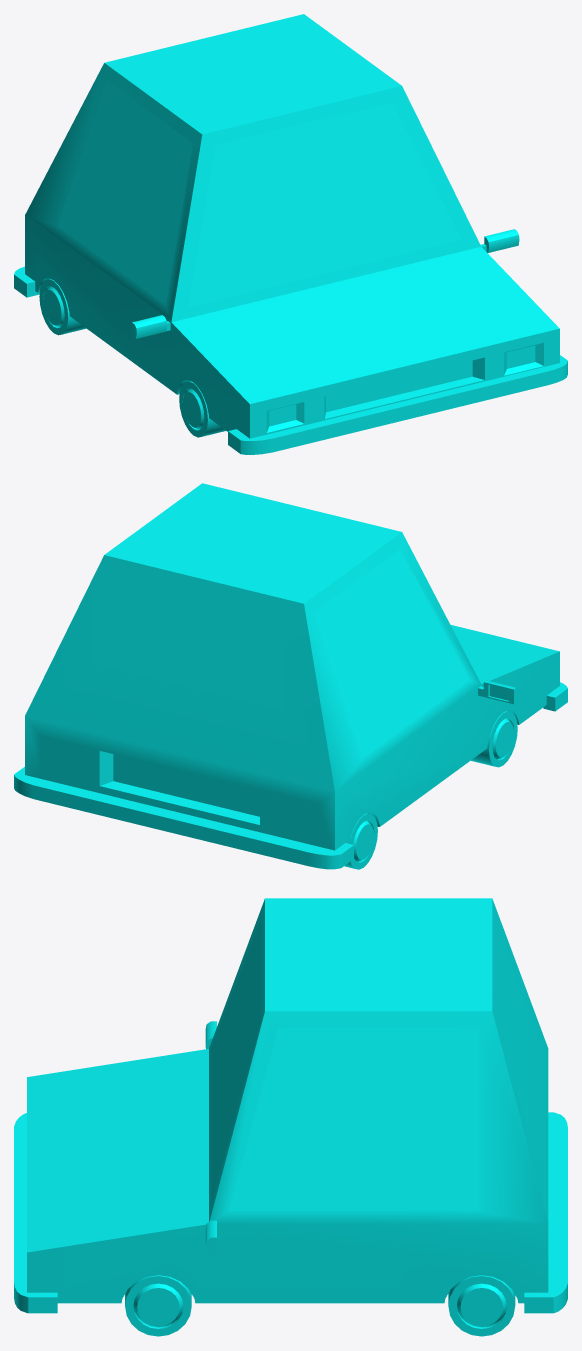
The model's file is MiniBoxCar.obj.
3 views of the same model, one above another, from view 1: azimuth 30°, elevation 25°; view 2: azimuth 150°, elevation 25°; view 3: azimuth 270°, elevation 25° (orthographic). The views are drawn at different scales.
Visible parts, largest first — view 1: MiniBoxCar; view 2: MiniBoxCar; view 3: MiniBoxCar.
Boxes of the visible parts, x1,y1,x2,y2 form: MiniBoxCar: (14,14,567,454); MiniBoxCar: (14,483,567,869); MiniBoxCar: (14,898,567,1336).
Size of the model in its own units: 8.64 by 5.47 by 9.34.
